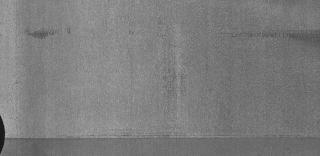welding line: (4, 134, 320, 144)
